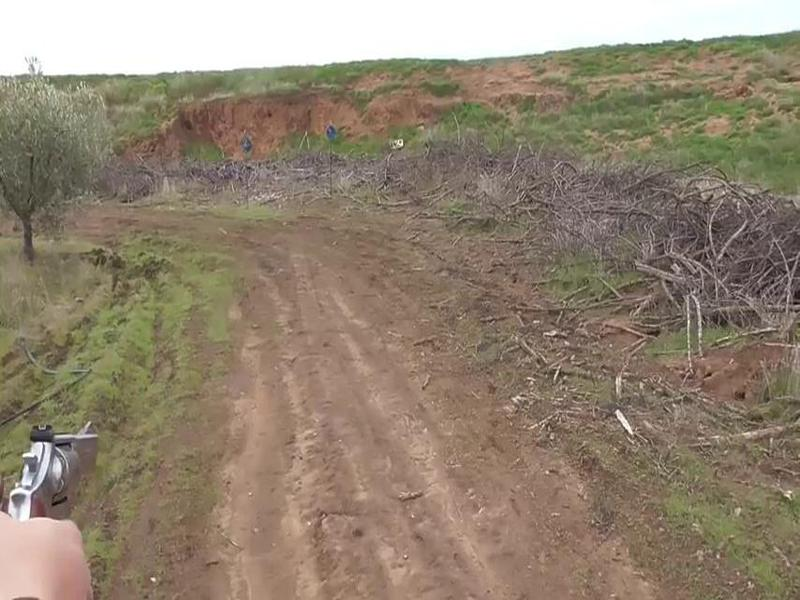Revolver: (1, 413, 121, 534)
